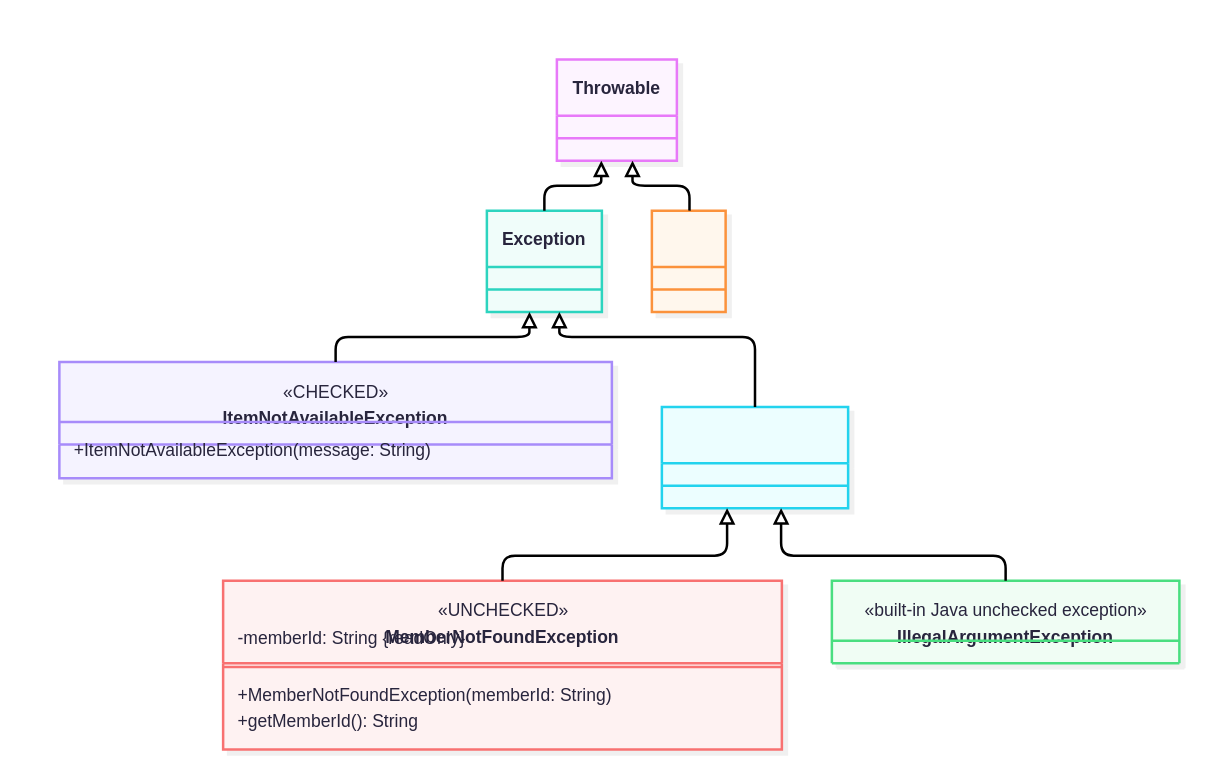
Some shapes in this 1206 by 776 pixel diagram are drawn without their labels. The shapes that lost their labels are listed below. From the top down, each one's centre as x and y in pixels, then its label:
the point at 690,263: Error
the point at 757,459: RuntimeException
